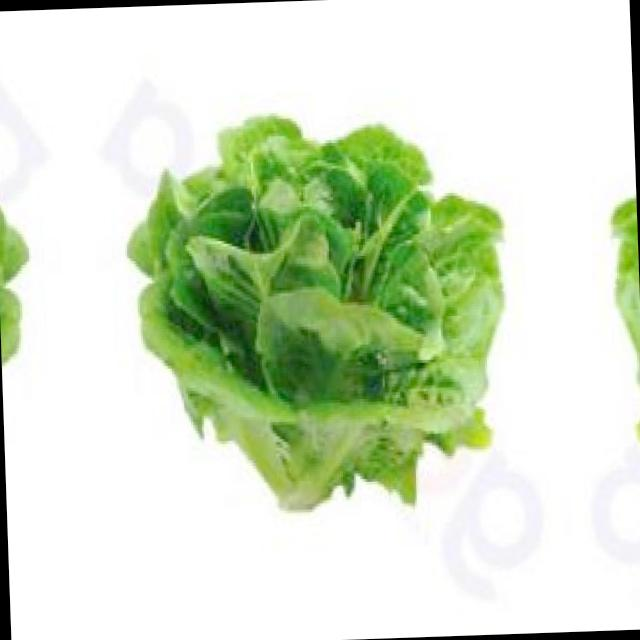healthy: (122, 108, 520, 526), (599, 103, 640, 509), (0, 124, 39, 530)
